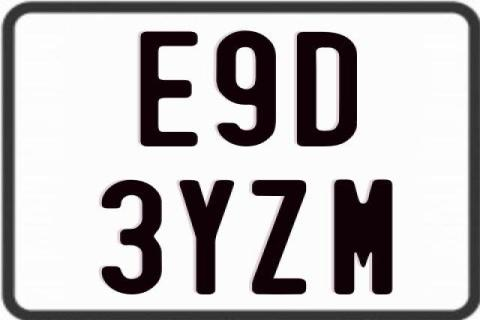0: (215, 29, 278, 150), (99, 180, 161, 298)
D: (295, 29, 357, 149)
E: (137, 30, 199, 148)
M: (334, 177, 392, 297)
Y: (176, 180, 235, 297)
Z: (251, 180, 305, 297)
